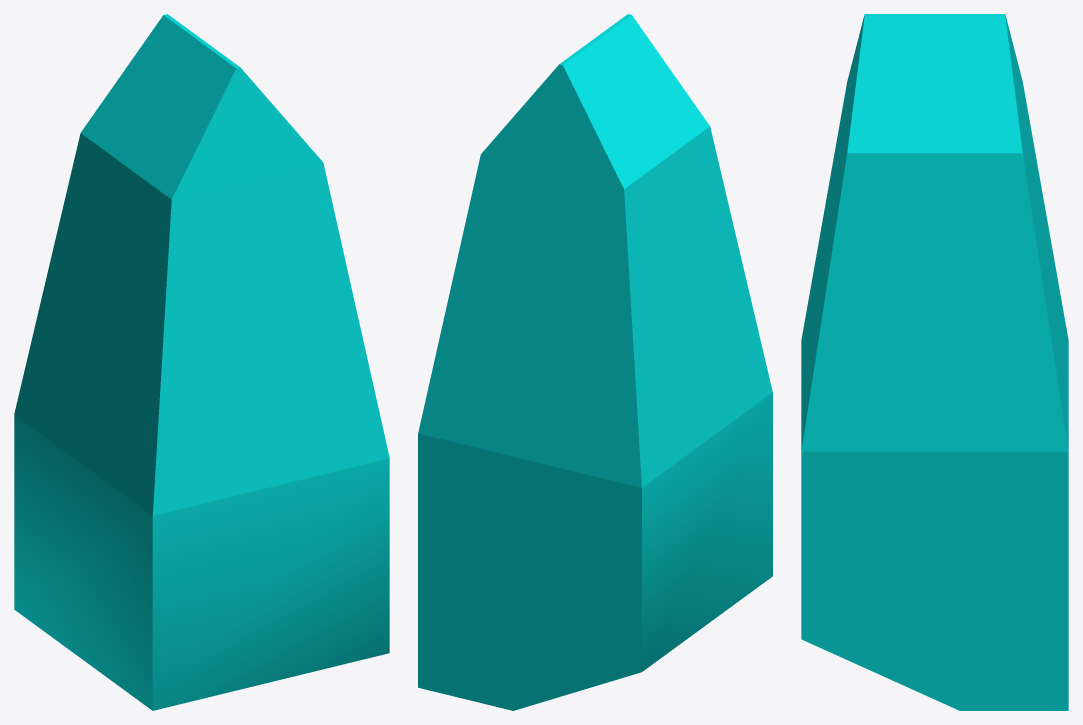
The model's file is SM_Bld_Battlements_End_02_Collision.fbx.
3 views of the same model, side by side, from view 1: azimuth 30°, elevation 25°; view 2: azimuth 150°, elevation 25°; view 3: azimuth 270°, elevation 25° (orthographic). The views are drawn at different scales.
Parts seen in each view (by area): view 1: SM_Bld_Battlements_End_02_Collision; view 2: SM_Bld_Battlements_End_02_Collision; view 3: SM_Bld_Battlements_End_02_Collision.
Part boxes in pixels (<box>): SM_Bld_Battlements_End_02_Collision: <box>14,14,389,710</box>; SM_Bld_Battlements_End_02_Collision: <box>418,14,772,710</box>; SM_Bld_Battlements_End_02_Collision: <box>801,14,1068,710</box>.
Size of the model in its own units: 97.24 by 260 by 98.5.
